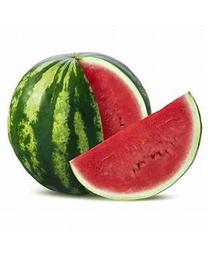watermelon: (7, 51, 151, 194), (68, 90, 202, 201)
